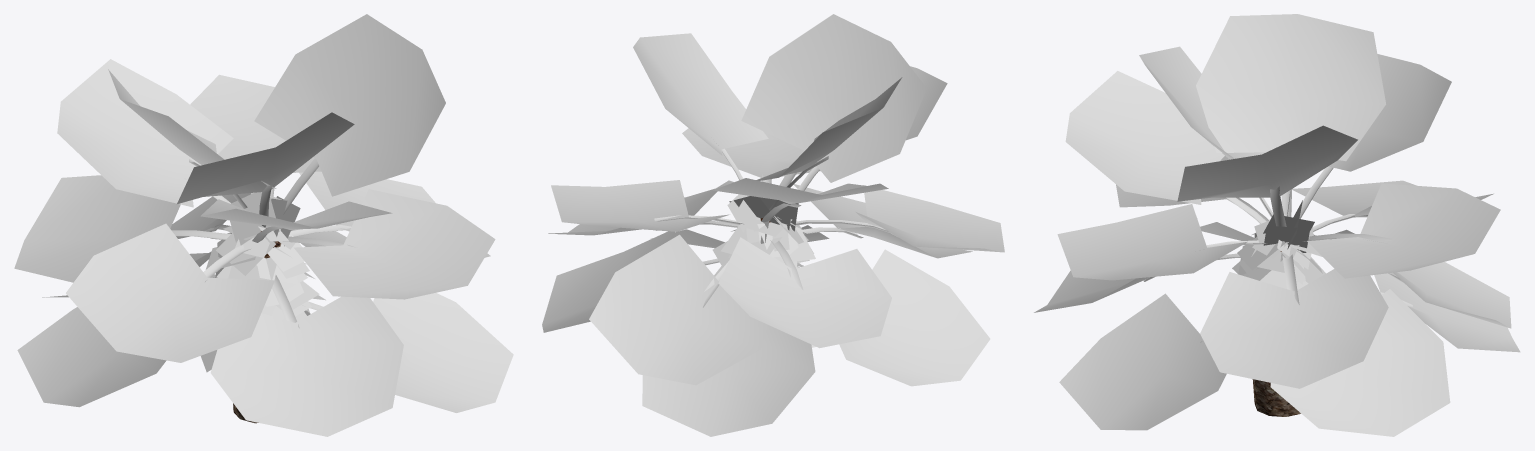
The model's file is chi_2s.fbx.
3 renders of one model, left to right at view 1: azimuth 30°, elevation 25°; view 2: azimuth 150°, elevation 25°; view 3: azimuth 270°, elevation 25°, orthographic. The views are drawn at different scales.
Visible parts, largest first — view 1: chi; view 2: chi; view 3: chi.
Part boxes in pixels (<box>): chi: <box>14,14,513,436</box>; chi: <box>542,14,1004,436</box>; chi: <box>1034,14,1520,436</box>.
Bounding box in the file's own units: 944 × 741 × 963.
